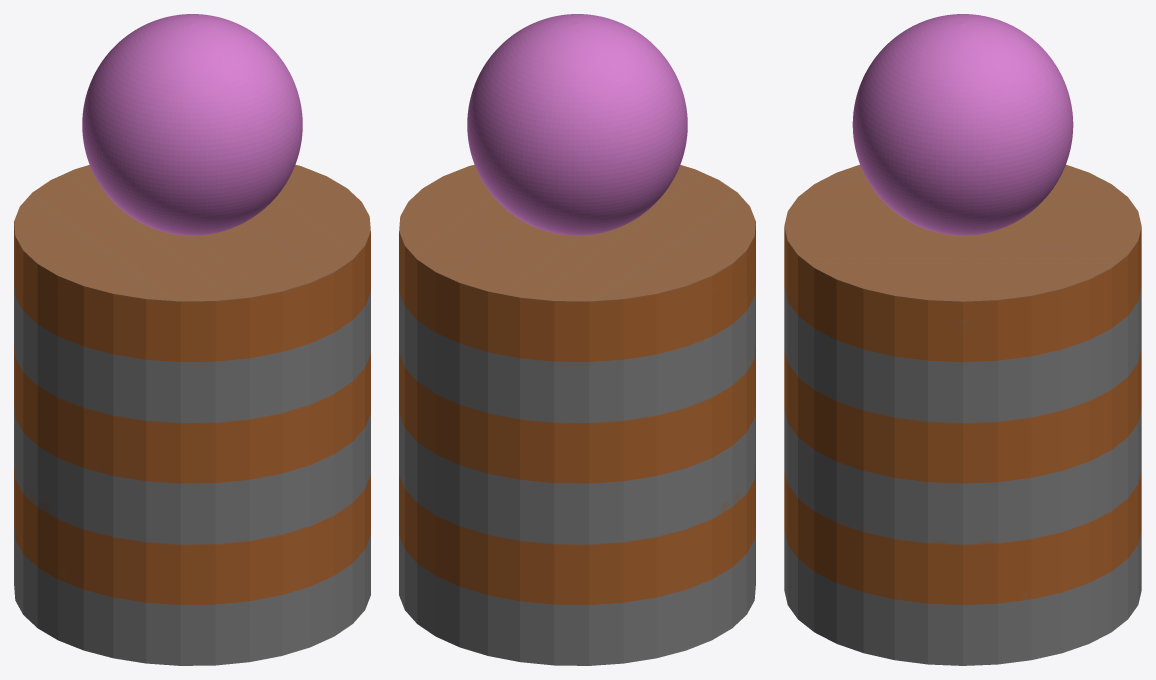
File: BOD5_BMC3_BCC0_BPT2_FRC0_HEA0_HMC10_HCC0_HPT0_ELT0_ERT0_ELL0_ERL0_AP0_AAL0_AAR0_BEK0.fbx
The picture shows the model from 3 angles, left to right: view 1: azimuth 30°, elevation 25°; view 2: azimuth 150°, elevation 25°; view 3: azimuth 270°, elevation 25°; orthographic projection.
Parts seen in each view (by area): view 1: Body, Head; view 2: Body, Head; view 3: Body, Head.
Boxes of the visible parts, left/top/right/bottom form: Body: left=14, top=164, right=370, bottom=665; Head: left=82, top=14, right=302, bottom=235; Body: left=399, top=164, right=755, bottom=665; Head: left=467, top=14, right=687, bottom=235; Body: left=784, top=164, right=1141, bottom=665; Head: left=852, top=14, right=1073, bottom=235.
Bounding box in the file's own units: 80 × 140 × 80.
2 materials, 2 textured.
